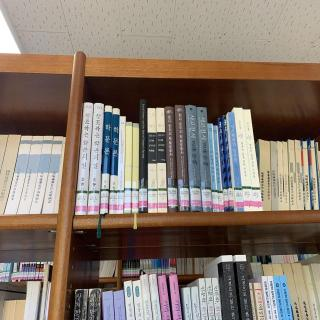book-spine: (233, 106, 254, 212), (242, 108, 263, 212), (75, 102, 94, 216), (184, 104, 202, 212), (87, 102, 104, 215), (196, 107, 213, 212), (174, 104, 190, 213), (227, 111, 244, 212), (164, 106, 178, 212), (100, 105, 113, 214), (155, 108, 168, 213), (146, 108, 158, 213), (109, 108, 120, 214), (207, 123, 219, 212), (223, 115, 234, 211), (218, 118, 229, 212), (139, 100, 148, 213), (116, 116, 126, 214), (213, 125, 224, 212), (124, 122, 132, 214), (132, 123, 139, 213)
